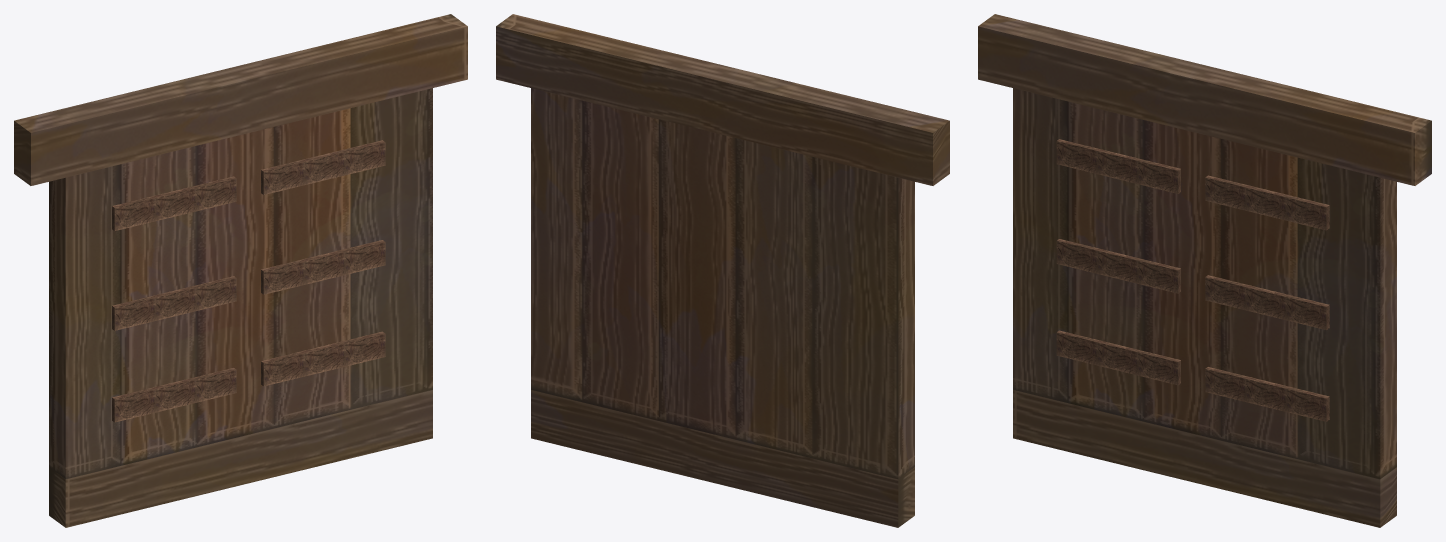
Rendered from NS_win.fbx.
3 renders of one model, left to right at view 1: azimuth 30°, elevation 25°; view 2: azimuth 150°, elevation 25°; view 3: azimuth 330°, elevation 25°, orthographic.
Parts seen in each view (by area): view 1: Box003; view 2: Box003; view 3: Box003.
Boxes of the visible parts, x1,y1,x2,y2 form: Box003: [14, 14, 467, 527]; Box003: [496, 14, 949, 527]; Box003: [978, 14, 1431, 527].
Bounding box in the file's own units: 46.01 × 40.59 × 3.63.
Materials: 2 (2 with a texture image).
